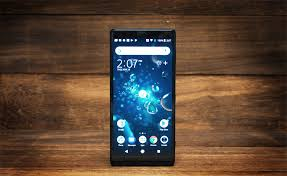sony: (106, 25, 181, 167)
